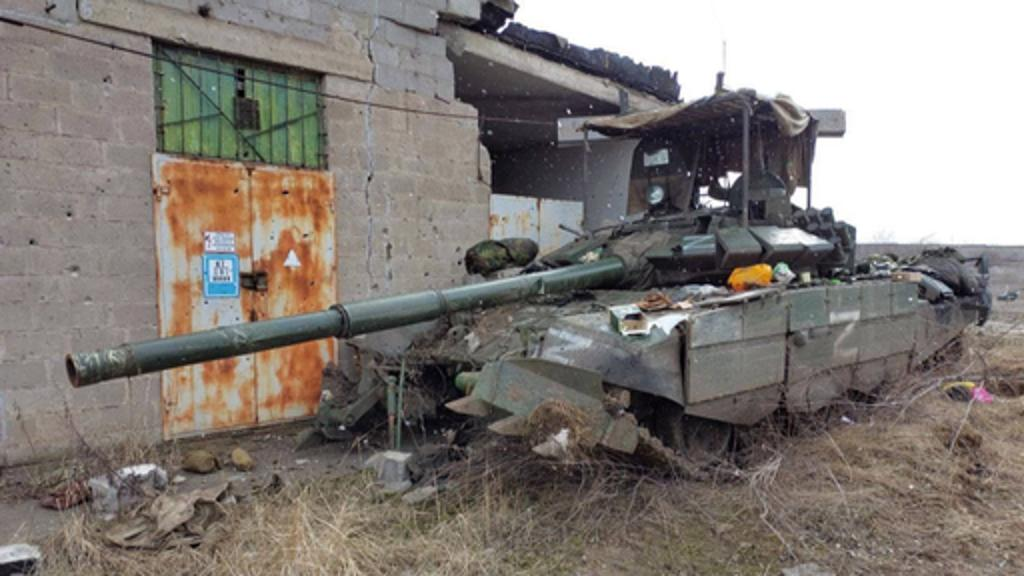TANK: (64, 86, 990, 490)
